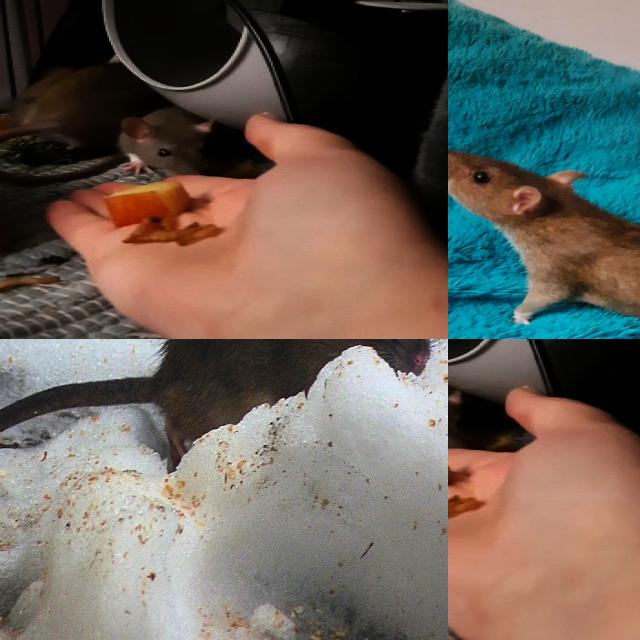rat: (158, 339, 430, 483), (448, 144, 640, 339), (116, 107, 218, 182), (448, 378, 481, 452)
